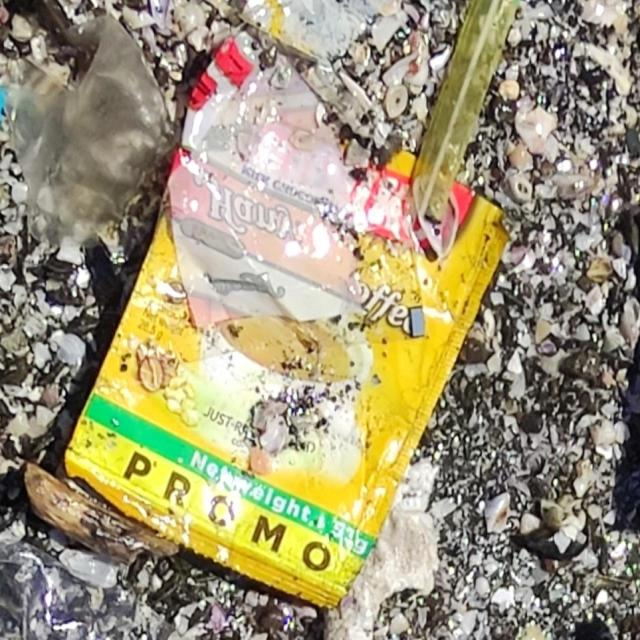plastic_waste: (62, 25, 516, 617)
